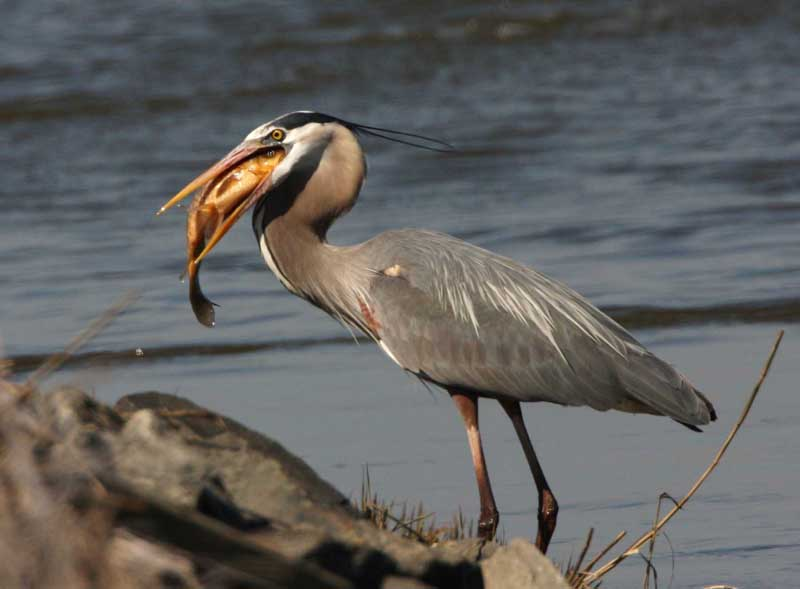heron: (155, 106, 719, 558)
